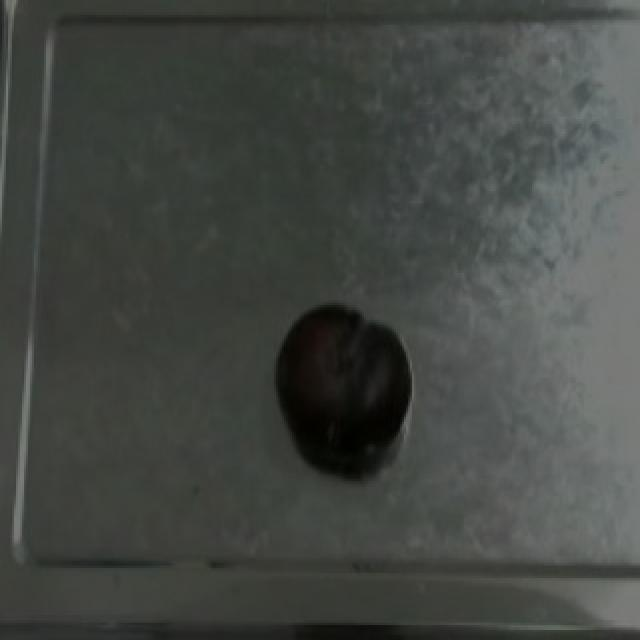Fruit: (270, 300, 414, 462)
